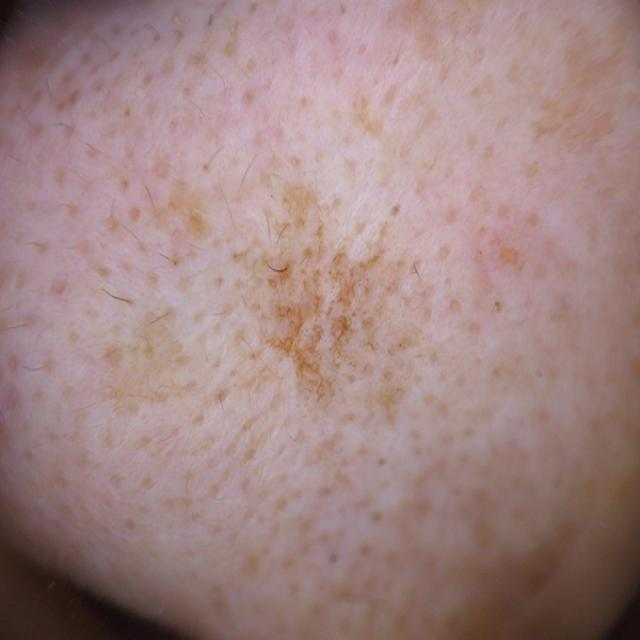Skin-Cancer Pigmented benign keratosis: (32, 43, 615, 640)
